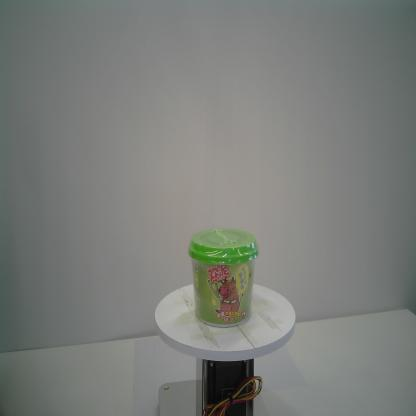Instant Drink: (187, 228, 259, 328)
